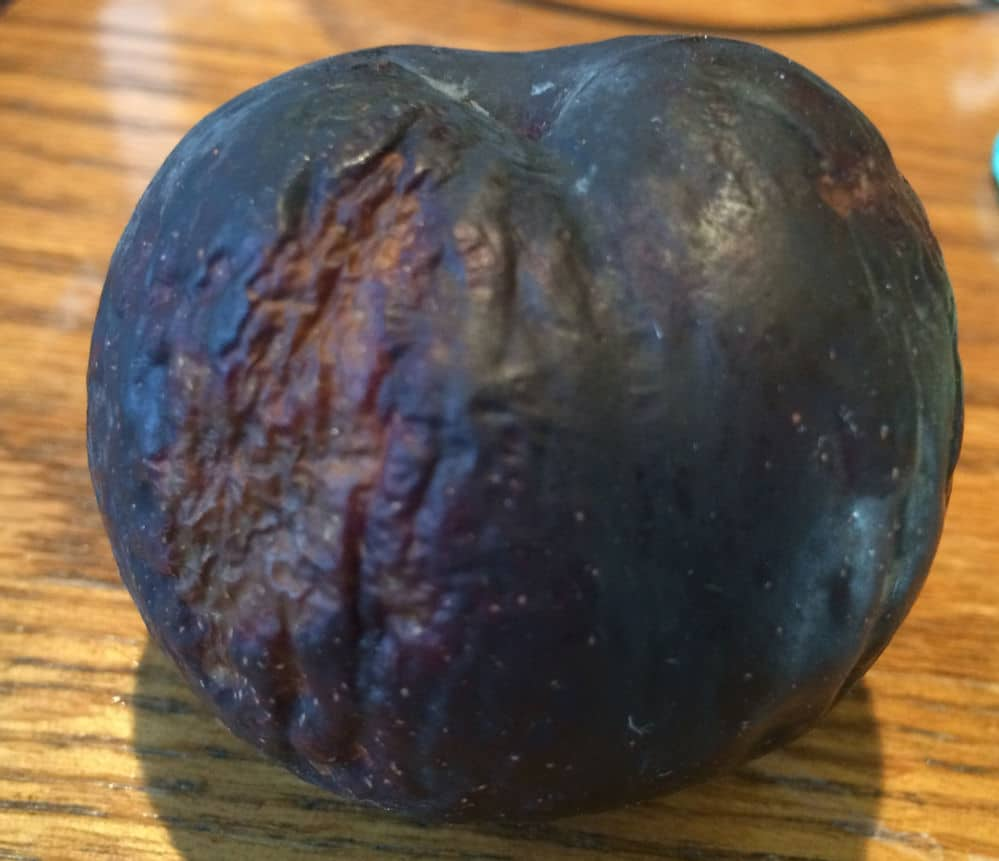plum_C: (86, 34, 965, 822)
